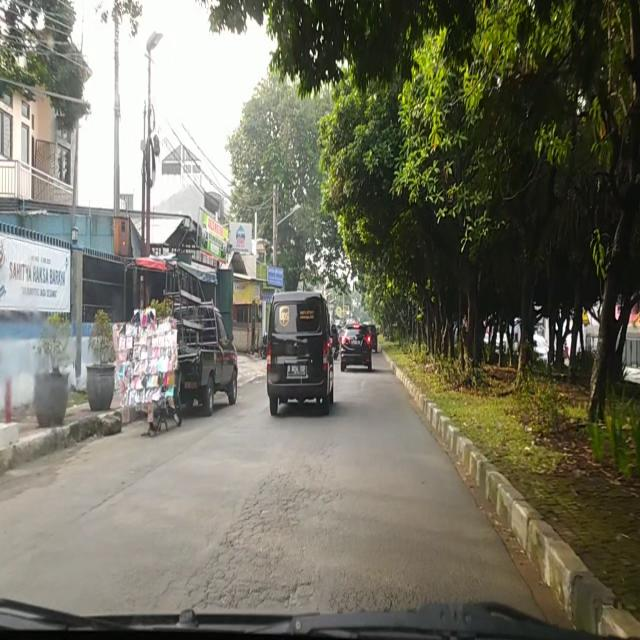Drain Hole: (177, 468, 333, 600)
